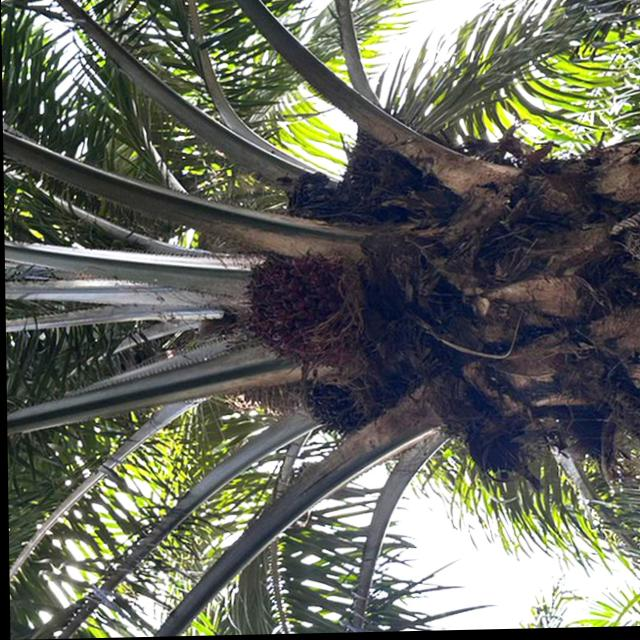ripe: (231, 241, 352, 377)
